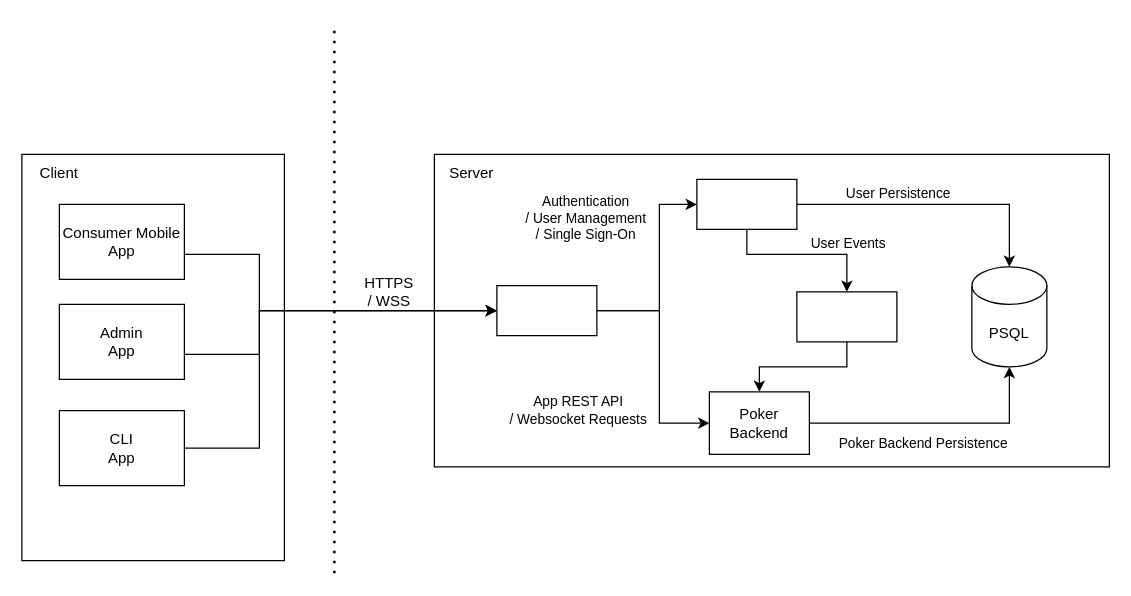
This 1131x596 diagram has some shape labels left out. The shapes that lost their labels are listed below. From the top down, each one's box as (x1, y1, x2, y2) in pixels, then its label:
(696, 178, 797, 229): Keycloak
(496, 284, 597, 336): Nginx
(796, 291, 897, 342): RabbitMQ
